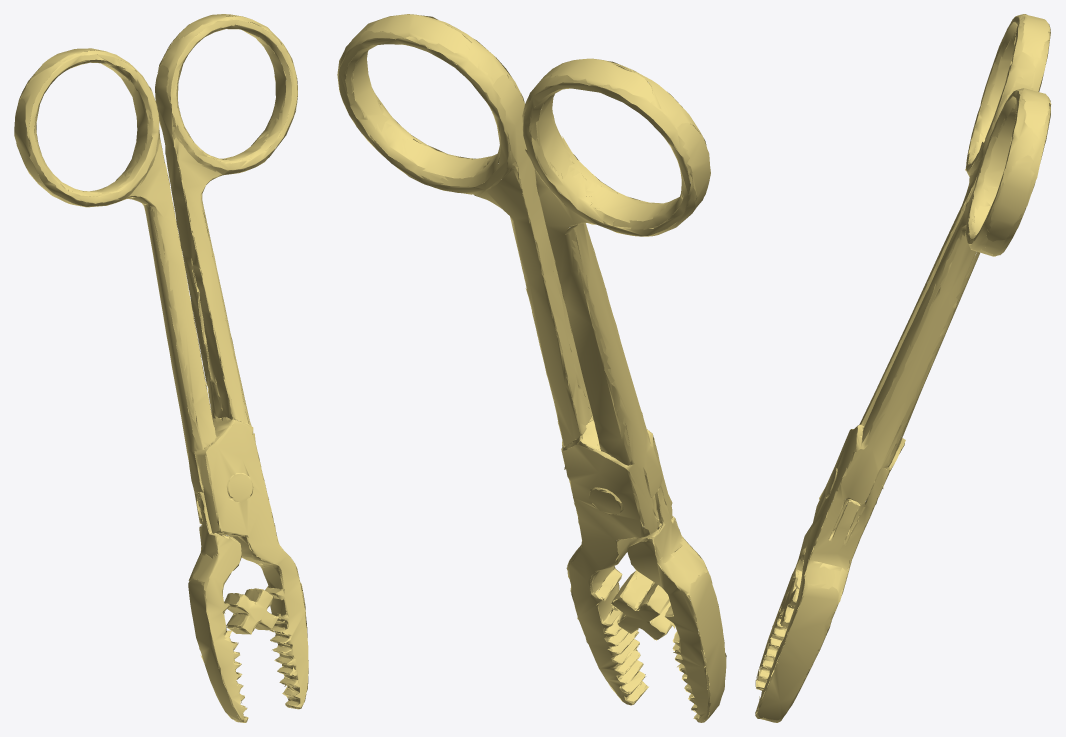
Rendered from equip_dentis_extraction_forceps.glb.
3 renders of one model, left to right at view 1: azimuth 30°, elevation 25°; view 2: azimuth 150°, elevation 25°; view 3: azimuth 270°, elevation 25°, orthographic. The views are drawn at different scales.
Visible parts, largest first — view 1: world; view 2: world; view 3: world.
Boxes of the visible parts, x1,y1,x2,y2 form: world: (14,14,308,722); world: (337,14,726,722); world: (755,14,1051,722).
Size of the model in its own units: 0.0858 by 0.1801 by 0.0744.
